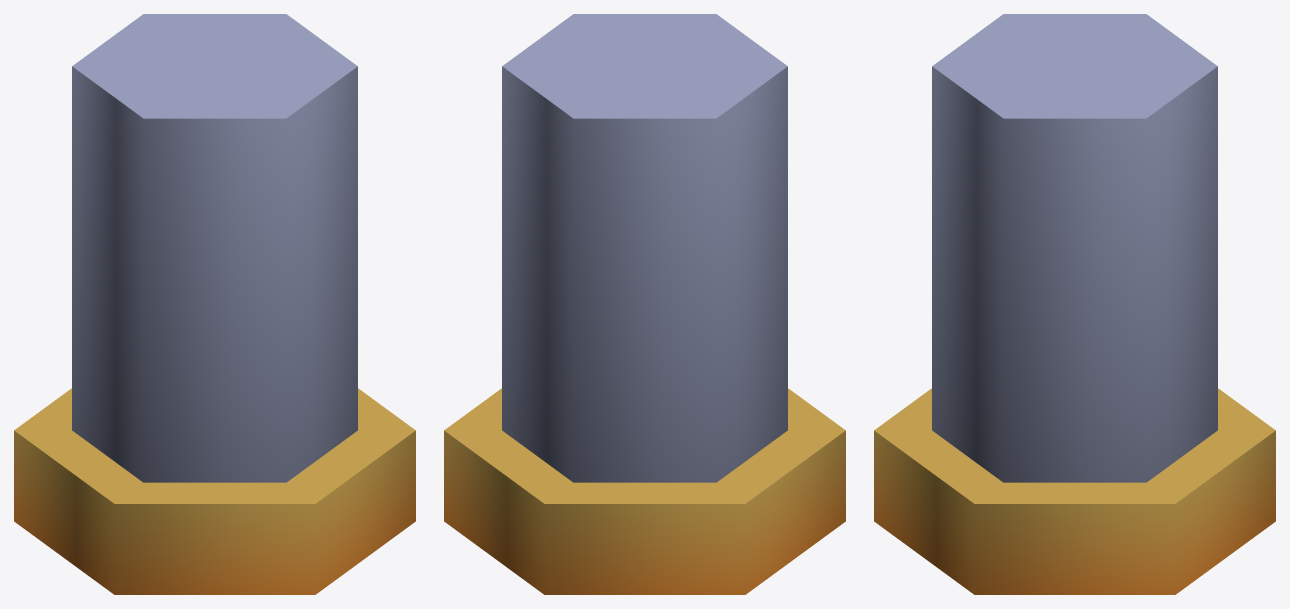
Rendered from pipe-end-colored.glb.
The picture shows the model from 3 angles, left to right: view 1: azimuth 30°, elevation 25°; view 2: azimuth 150°, elevation 25°; view 3: azimuth 270°, elevation 25°; orthographic projection.
Parts seen in each view (by area): view 1: pipe-end-colored; view 2: pipe-end-colored; view 3: pipe-end-colored.
Boxes of the visible parts, <box> form: pipe-end-colored: <box>14,14,415,594</box>; pipe-end-colored: <box>444,14,845,594</box>; pipe-end-colored: <box>874,14,1275,594</box>.
Bounding box in the file's own units: 0.3464 × 0.5 × 0.4.
